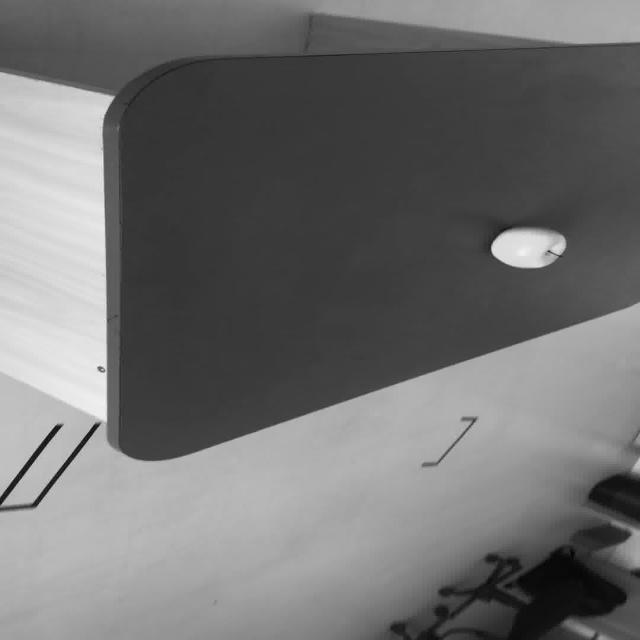apple: (488, 225, 566, 269)
